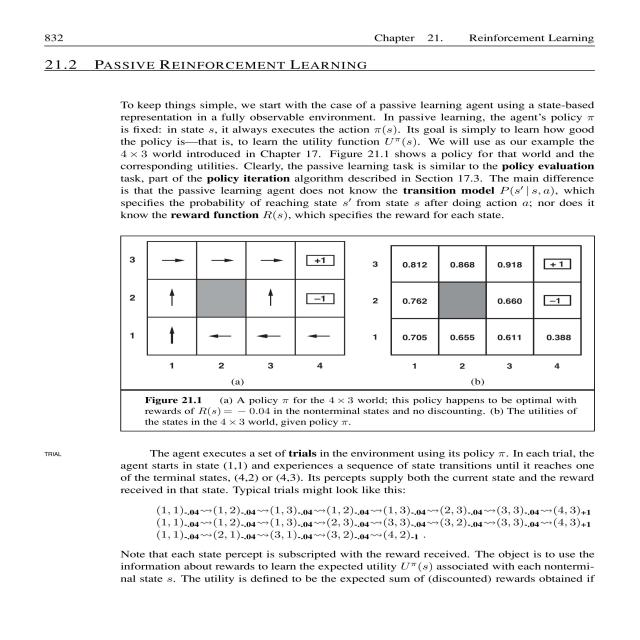diagram: (110, 223, 640, 440)
